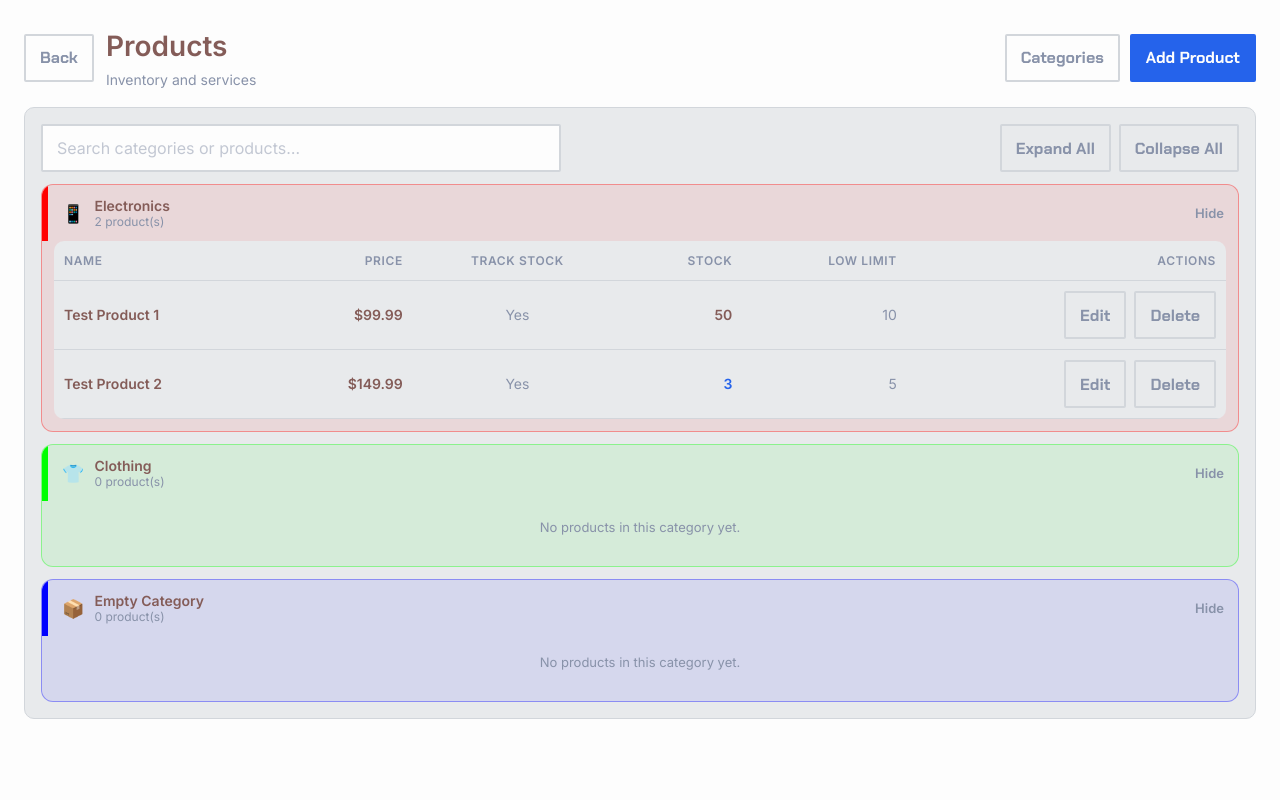
it: ProductsPage Component - Black Box Tests › Expand/Collapse Categories › should collapse all categories
Expected: the text "Electronics" is shown, [94,197,170,214]
Click the button "Collapse All" at {"x": 1179, "y": 148}, box [1119,124,1239,172]
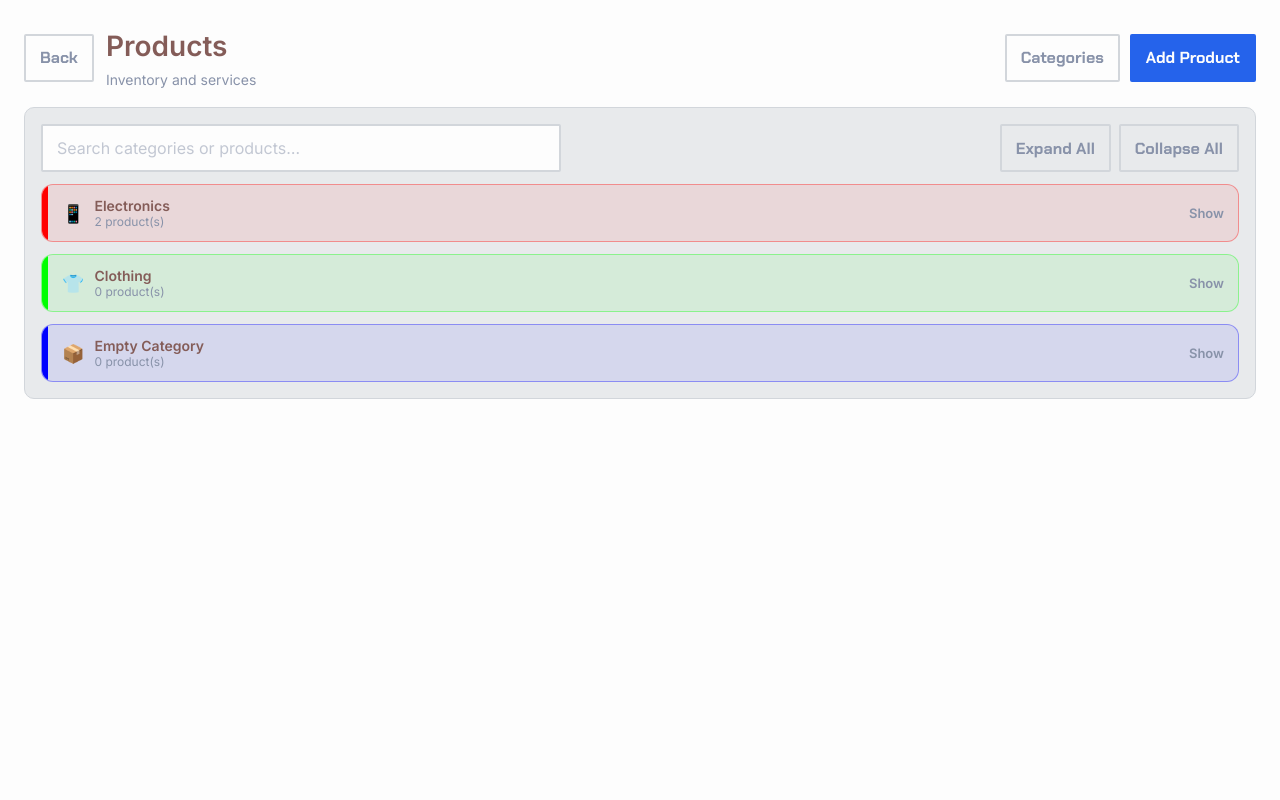
Result: the text "Test Product 1" is not shown
